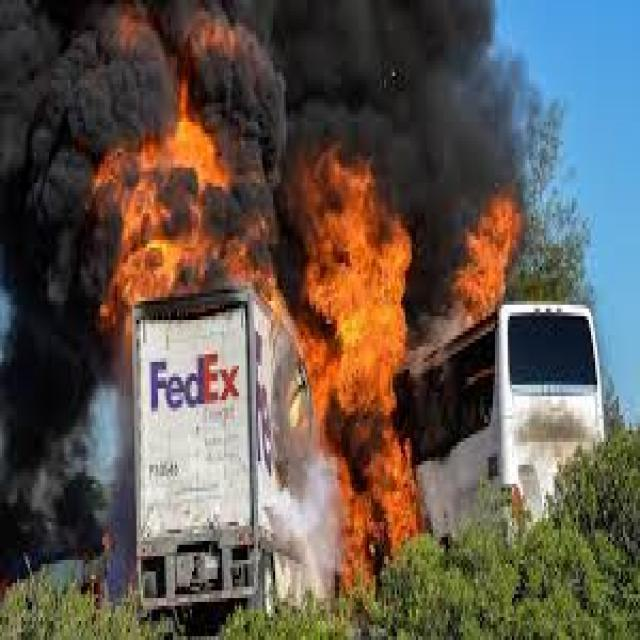Fire: (300, 142, 414, 584), (458, 196, 531, 320), (110, 229, 173, 316), (130, 167, 157, 244), (173, 120, 212, 170)
Smoke: (9, 326, 101, 547)
